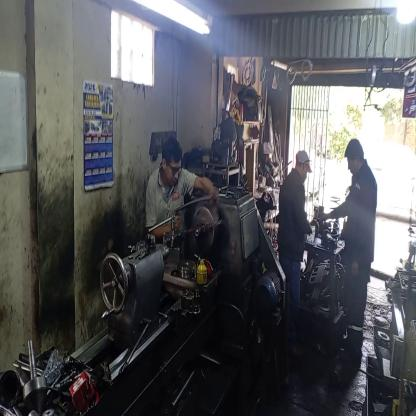lentes: (163, 156, 184, 178)
